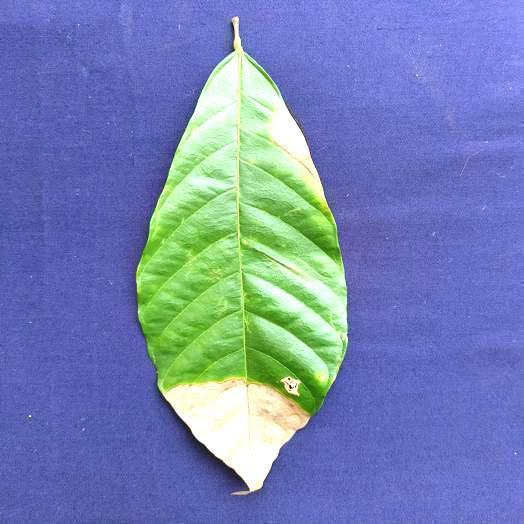Potassium: (137, 17, 347, 492)
